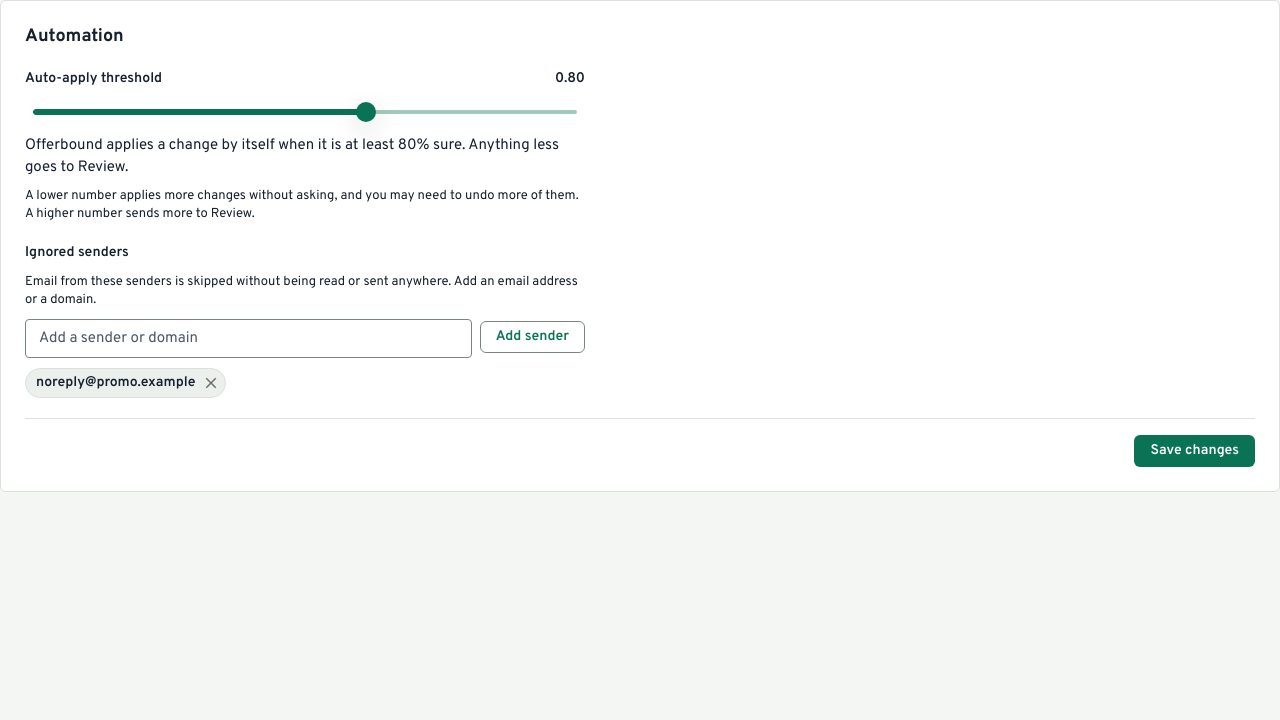
Test: Settings, Automation › saves the threshold and the ignored senders through PUT /settings
Set the slider labelled "Auto-apply threshold" to "0.9". click: (366, 112)
box: [356,102,376,122]
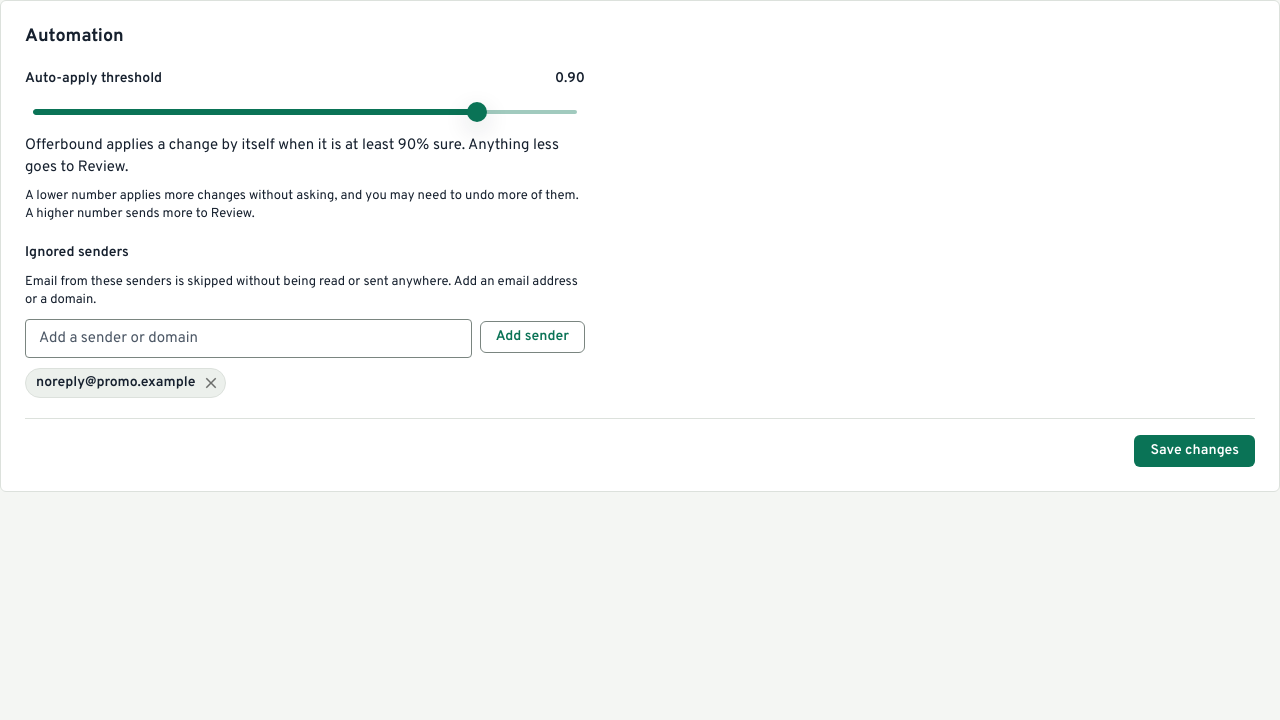
Expected: the text "noreply@promo.example" is shown, [36,373,195,393]
Type "  Digest@News.Example " into the field labelled "Add a sender or domain". click: (248, 338)
box: [25,319,472,358]
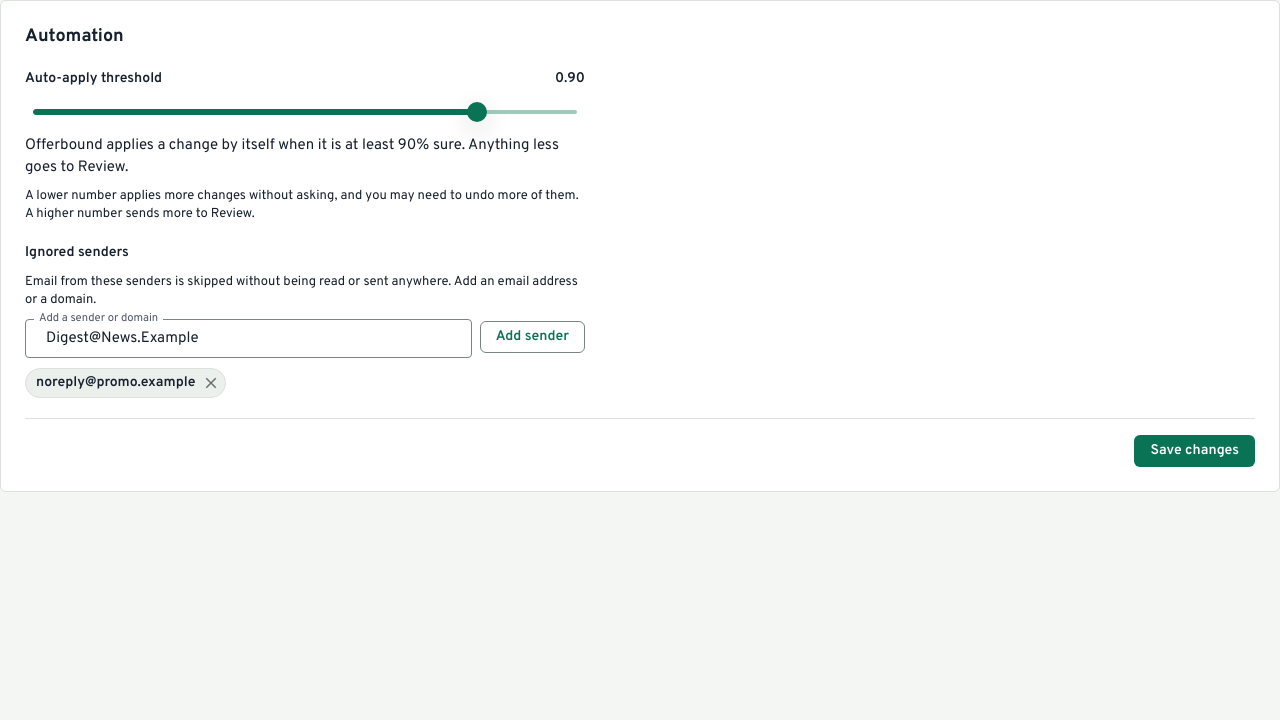
Click the button "Add sender". click: (532, 337)
box: [480,321,585,353]
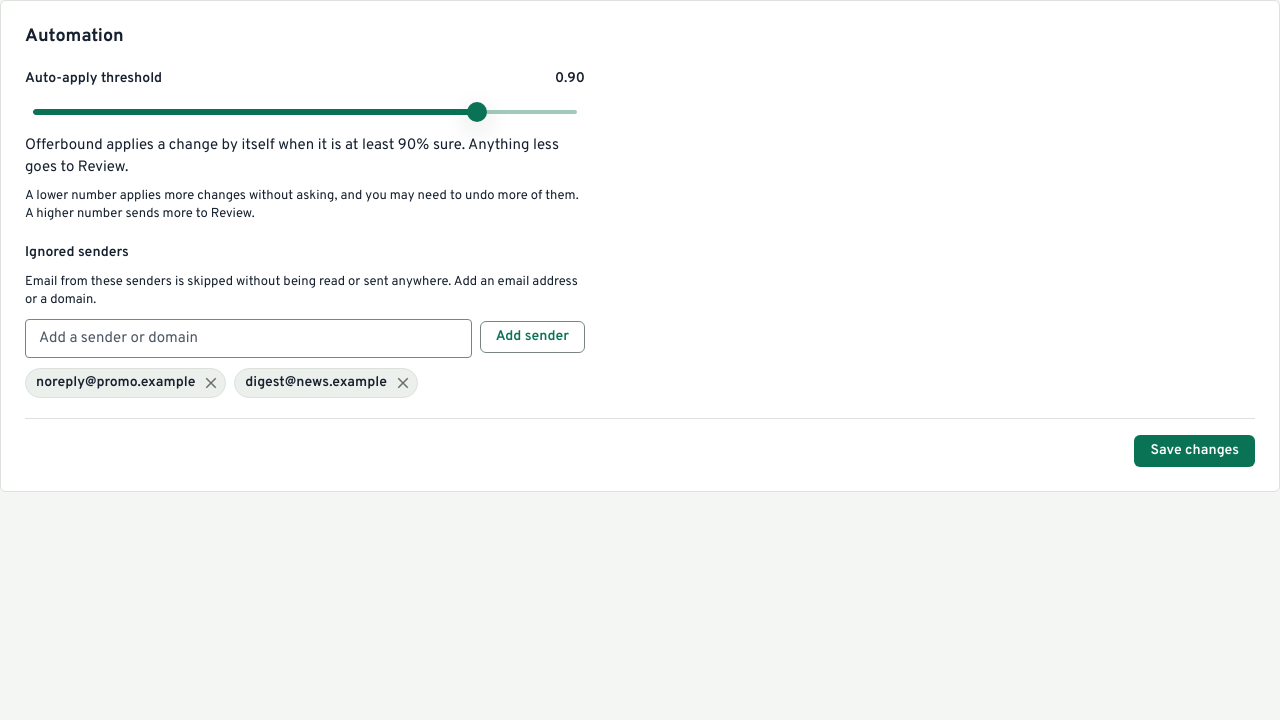
Now the text "digest@news.example" is shown, box [245,373,387,393]
Now the field labelled "Add a sender or domain" is empty, box [25,319,472,358]
Click the button named "Remove noreply@promo.example". click: (211, 383)
box: [197,369,225,397]
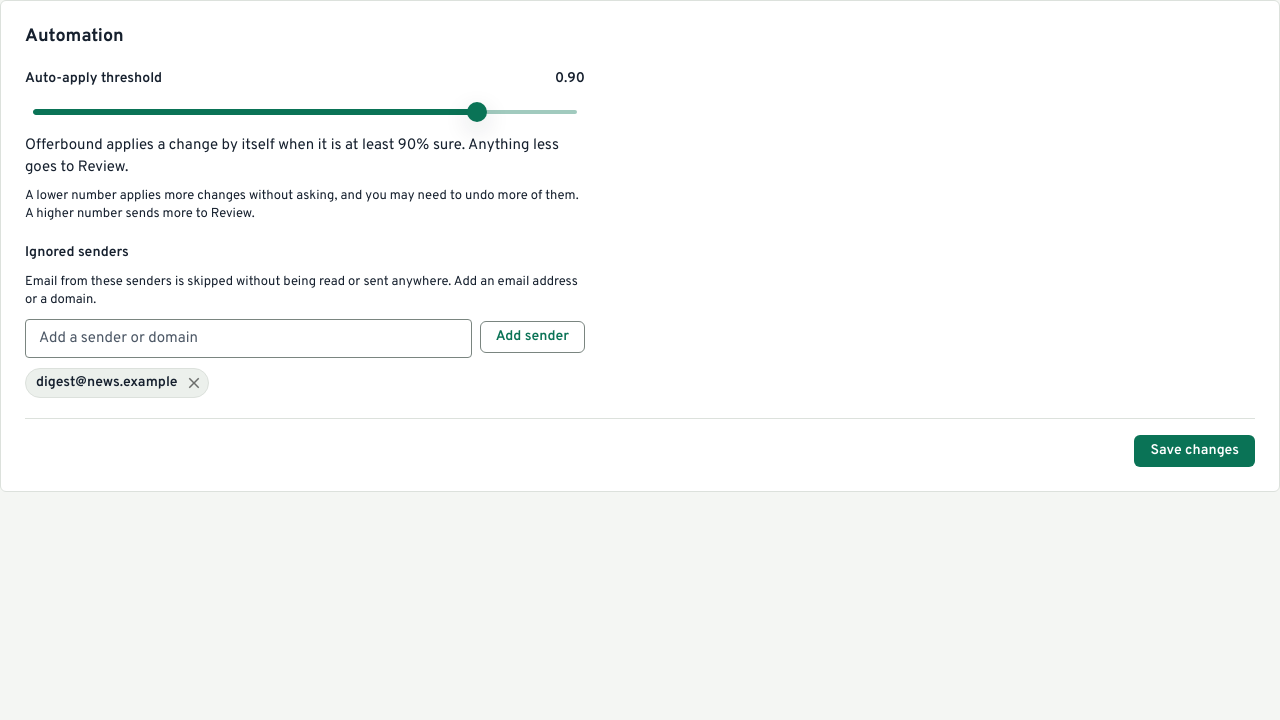
Now the text "noreply@promo.example" is gone
Click the button "Save changes". click: (1195, 451)
box: [1134,435,1255,467]
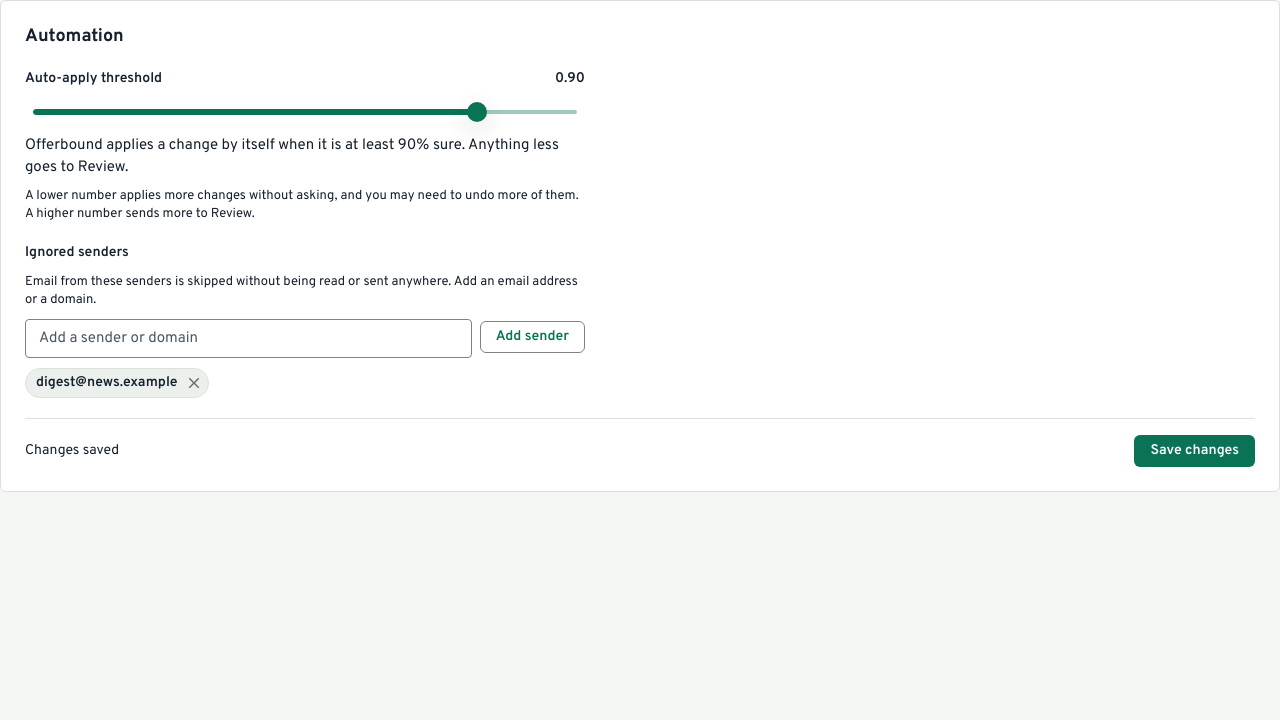
Now the text "Changes saved" is shown, box [25,441,119,461]
